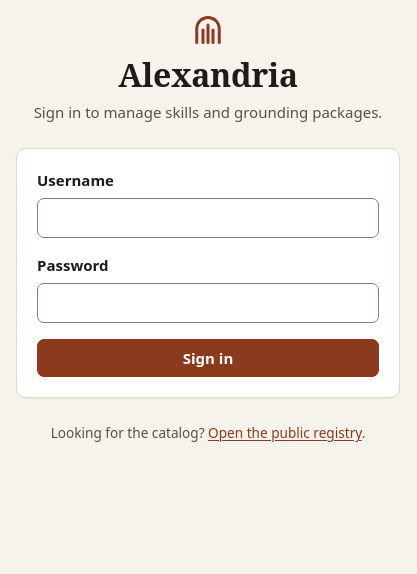
Test: Login › reports network and server problems differently from bad credentials
This screenshot has width=417, height=574.
Type "ada" into the field labelled "Username".
click(208, 218); type("ada")  # box [37,198,379,238]
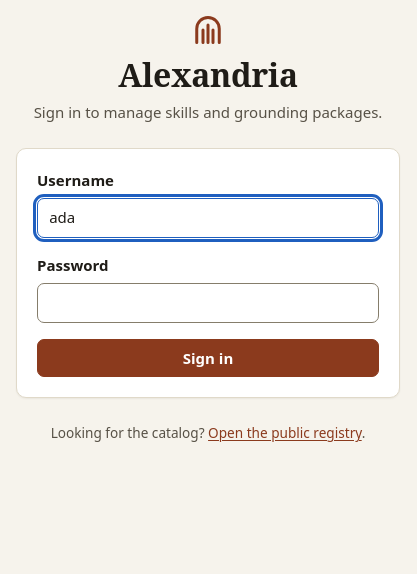
Type "correct horse" into the password field labelled "Password".
click(208, 303); type("correct horse")  # box [37,283,379,323]
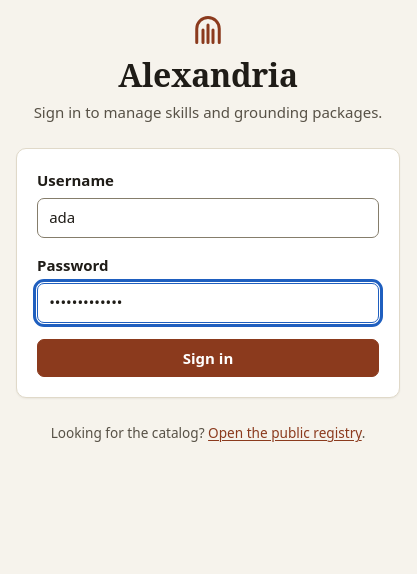
Click the button "Sign in".
click(208, 358)  # box [37,339,379,377]
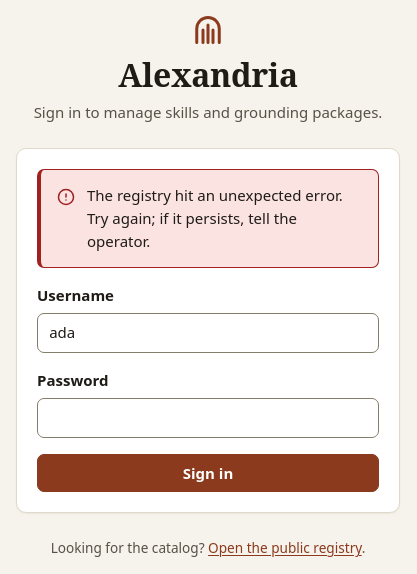
Now the message shows "unexpected error", box [87,185,343,251]
